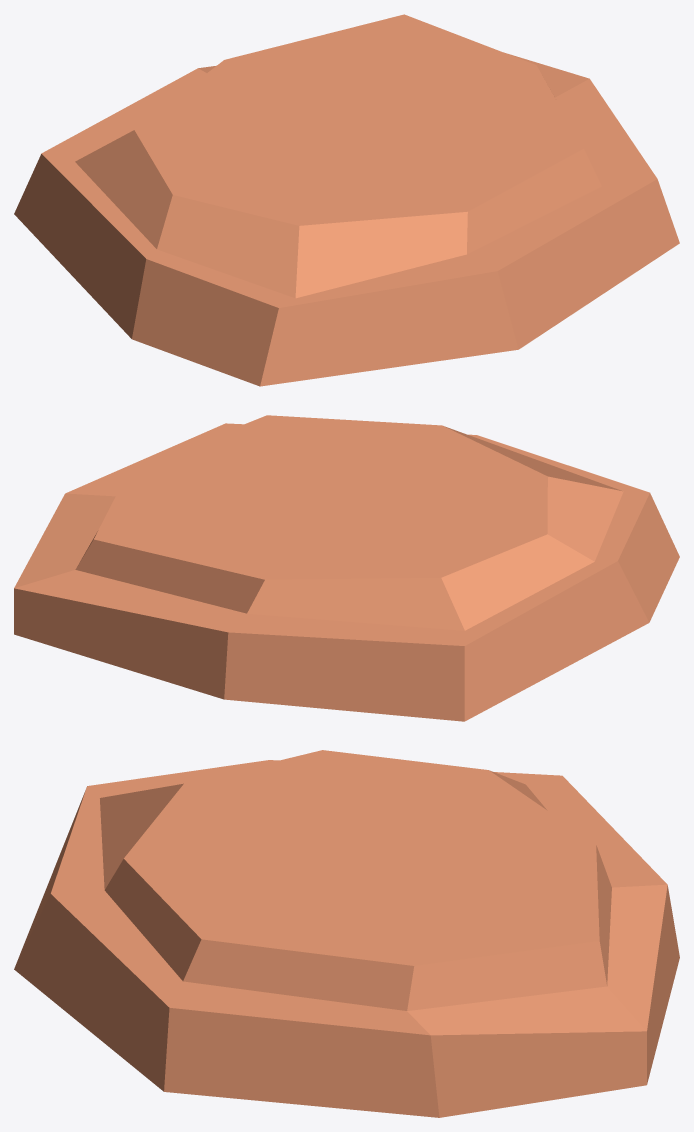
Rendered from Rock.fbx.
3 renders of one model, top to bottom at view 1: azimuth 30°, elevation 25°; view 2: azimuth 150°, elevation 25°; view 3: azimuth 270°, elevation 25°, orthographic. The views are drawn at different scales.
Parts seen in each view (by area): view 1: Rock; view 2: Rock; view 3: Rock.
Part boxes in pixels (x1,y1,x2,y2): Rock: [14, 14, 679, 386]; Rock: [14, 415, 679, 721]; Rock: [14, 750, 679, 1117].
Size of the model in its own units: 173 by 30.06 by 164.
